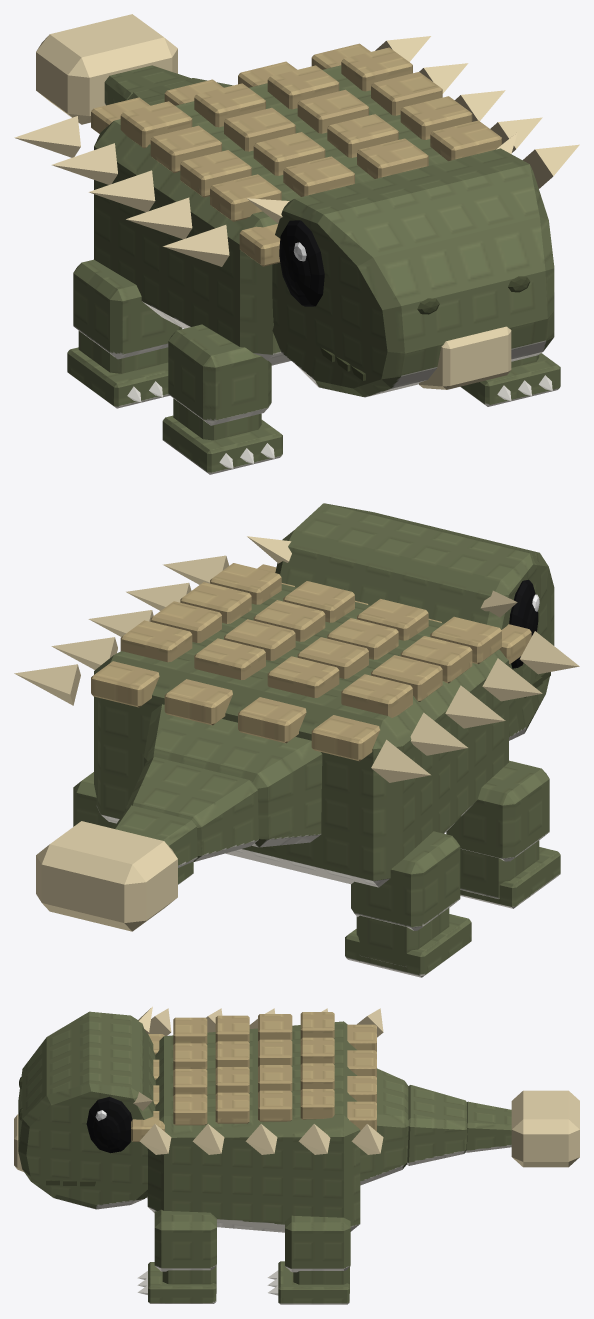
The model's file is bebe_09_Ankylosaurus.glb.
The picture shows the model from 3 angles, top to bottom: view 1: azimuth 30°, elevation 25°; view 2: azimuth 150°, elevation 25°; view 3: azimuth 270°, elevation 25°; orthographic projection. The views are drawn at different scales.
Parts seen in each view (by area): view 1: bebe_09_Ankylosaurus; view 2: bebe_09_Ankylosaurus; view 3: bebe_09_Ankylosaurus.
Boxes of the visible parts, <box> form: bebe_09_Ankylosaurus: <box>14,14,579,474</box>; bebe_09_Ankylosaurus: <box>14,503,579,977</box>; bebe_09_Ankylosaurus: <box>14,1006,579,1304</box>.
Bounding box in the file's own units: 2.27 × 1.43 × 3.74.
Materials: 1 (1 with a texture image).
